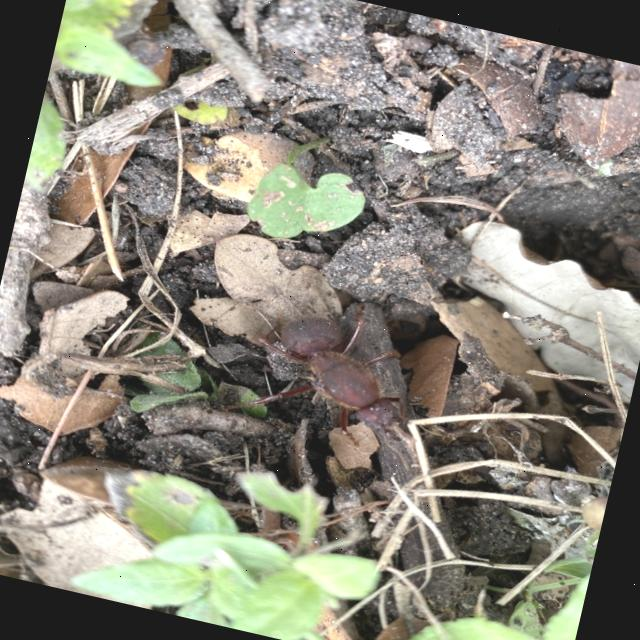Alive-Female-Dealate: (218, 277, 430, 452)
